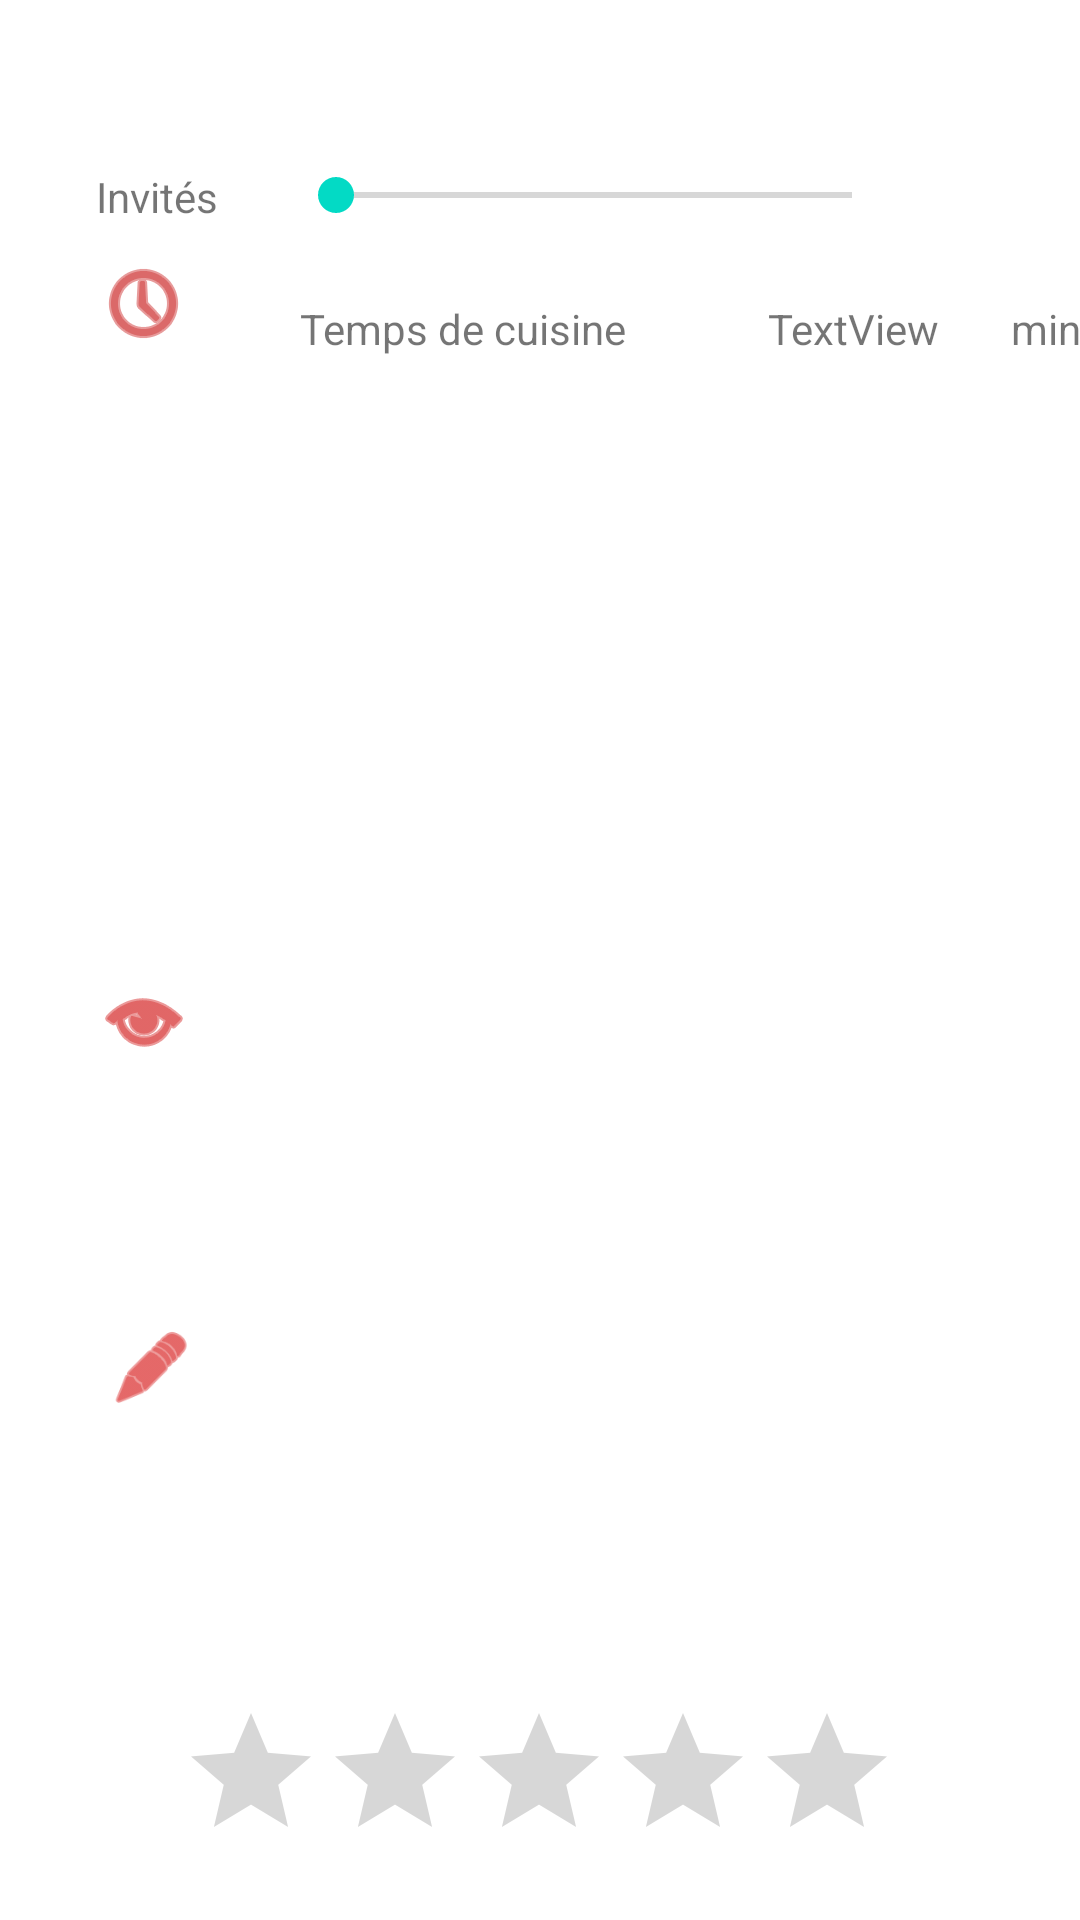

Screen size 1080 x 1920. Icon name, then its box in pixels as (x1, y1, x2, y2):
edit: (116, 1332, 187, 1403)
recent history: (109, 269, 178, 338)
view: (105, 998, 183, 1047)
